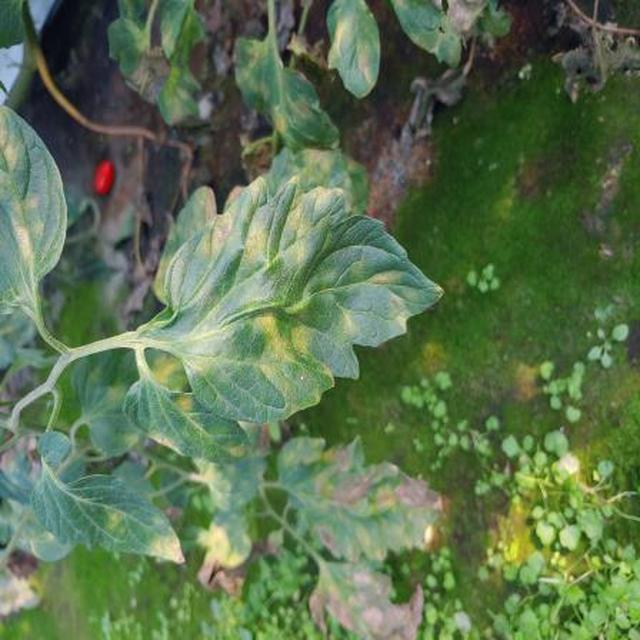Leaf Mold: (49, 71, 512, 640)
